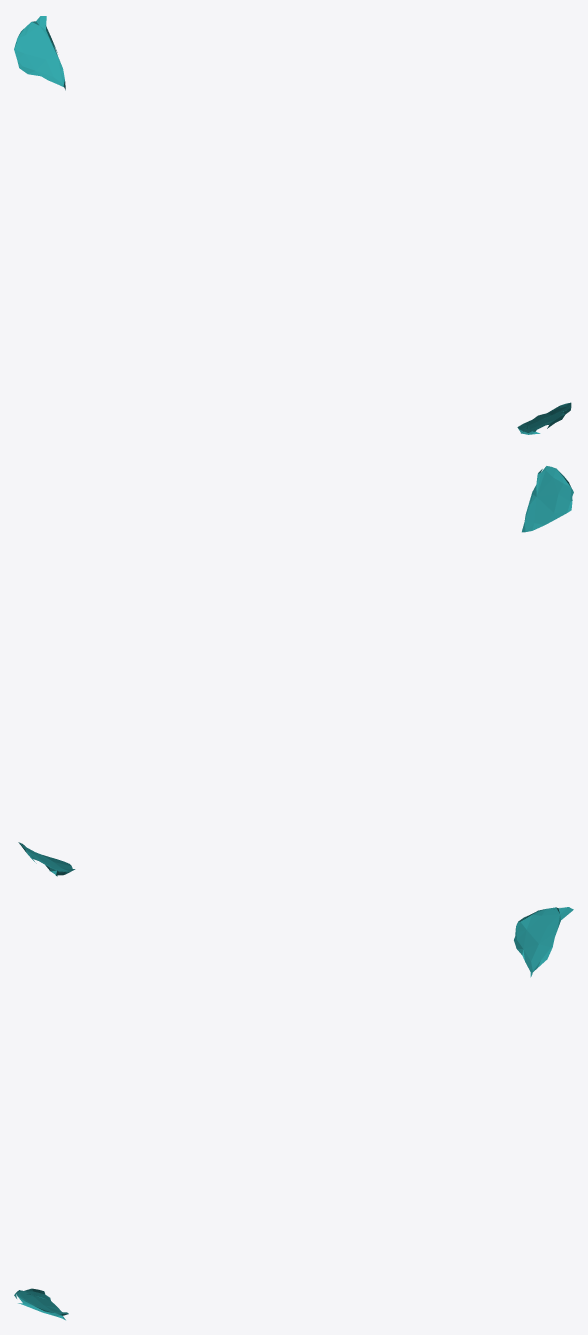
The picture shows the model from 3 angles, top to bottom: view 1: azimuth 30°, elevation 25°; view 2: azimuth 150°, elevation 25°; view 3: azimuth 330°, elevation 25°; orthographic projection.
Visible parts, largest first — view 1: 649.obj; view 2: 649.obj; view 3: 649.obj.
Part boxes in pixels (x1,y1,x2,y2): 649.obj: (14, 16, 571, 434); 649.obj: (18, 466, 573, 876); 649.obj: (14, 907, 573, 1320).
Size of the model in its own units: 349 by 396 by 7174.
